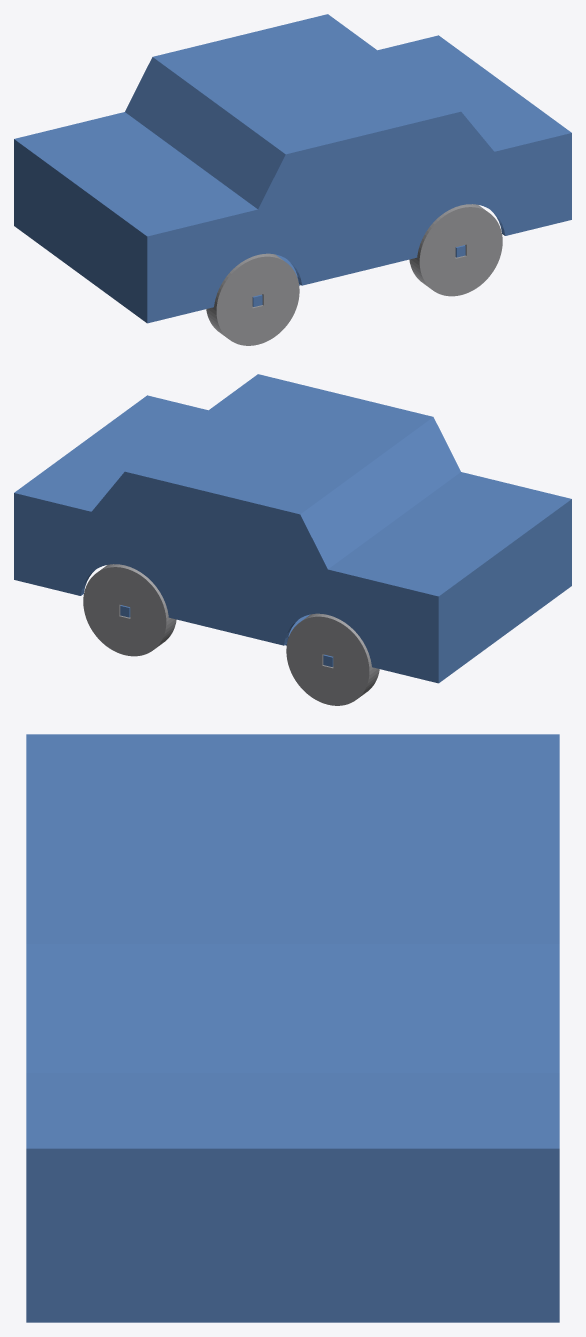
File: rc_car_colored.glb
3 views of the same model, one above another, from view 1: azimuth 30°, elevation 25°; view 2: azimuth 150°, elevation 25°; view 3: azimuth 270°, elevation 25° (orthographic). The views are drawn at different scales.
Parts seen in each view (by area): view 1: car_body, wheel_3, wheel_1; view 2: car_body, wheel_4, wheel_2; view 3: car_body.
Part boxes in pixels (bbox=[...]): car_body: bbox=[14, 14, 571, 323]; wheel_3: bbox=[409, 204, 502, 296]; wheel_1: bbox=[206, 253, 299, 345]; car_body: bbox=[14, 374, 571, 683]; wheel_4: bbox=[83, 564, 176, 656]; wheel_2: bbox=[286, 613, 379, 705]; car_body: bbox=[26, 734, 559, 1322].
Size of the model in its own units: 0.23 by 0.095 by 0.125.
